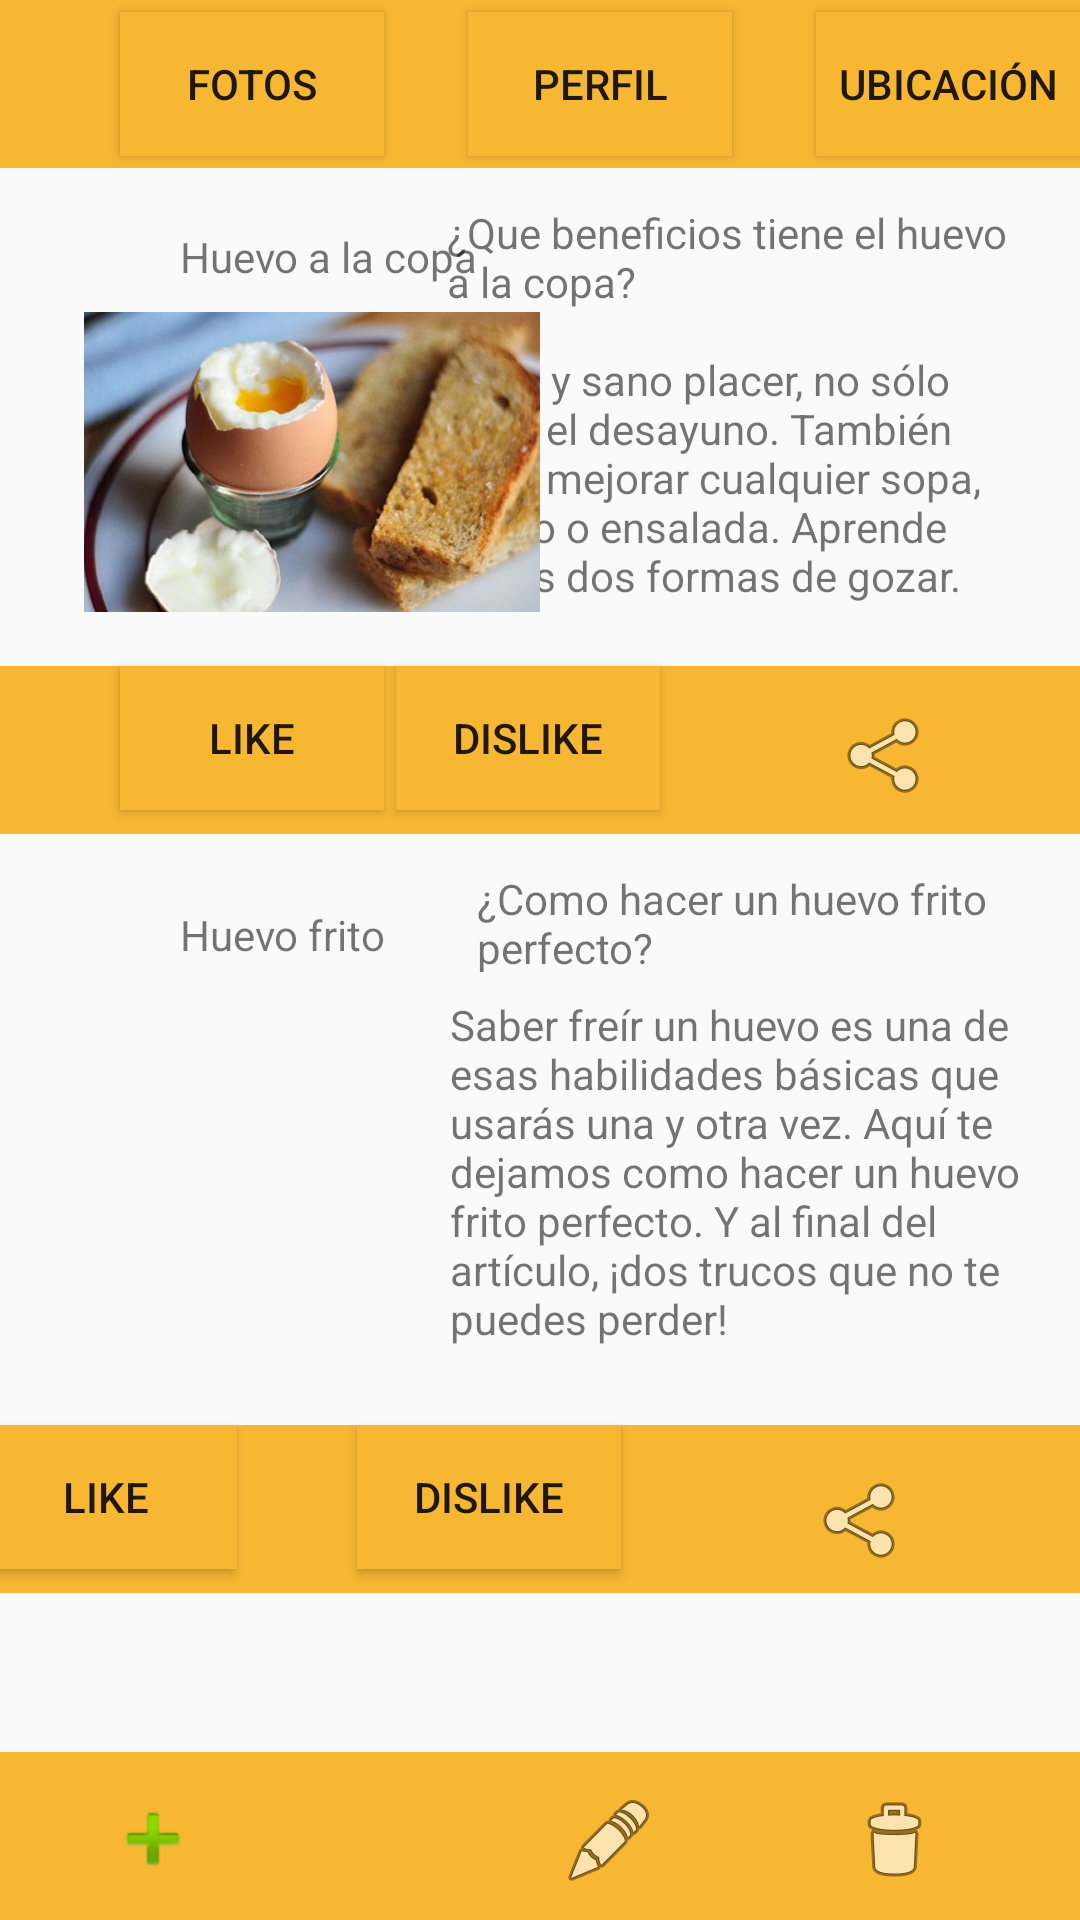

Named icons in this screenshot (1080px×1920px) and their bounding boxes, bbox=(x1, y1, x2, y2):
add: bbox=(126, 1812, 180, 1866)
delete: bbox=(867, 1802, 922, 1877)
edit: bbox=(568, 1800, 649, 1881)
share: bbox=(847, 718, 919, 793), bbox=(823, 1483, 895, 1558)
